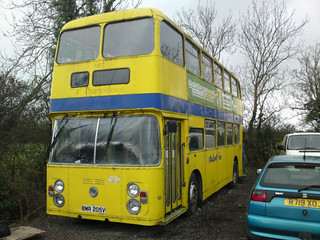bus: (45, 8, 242, 228)
car: (245, 152, 320, 240)
